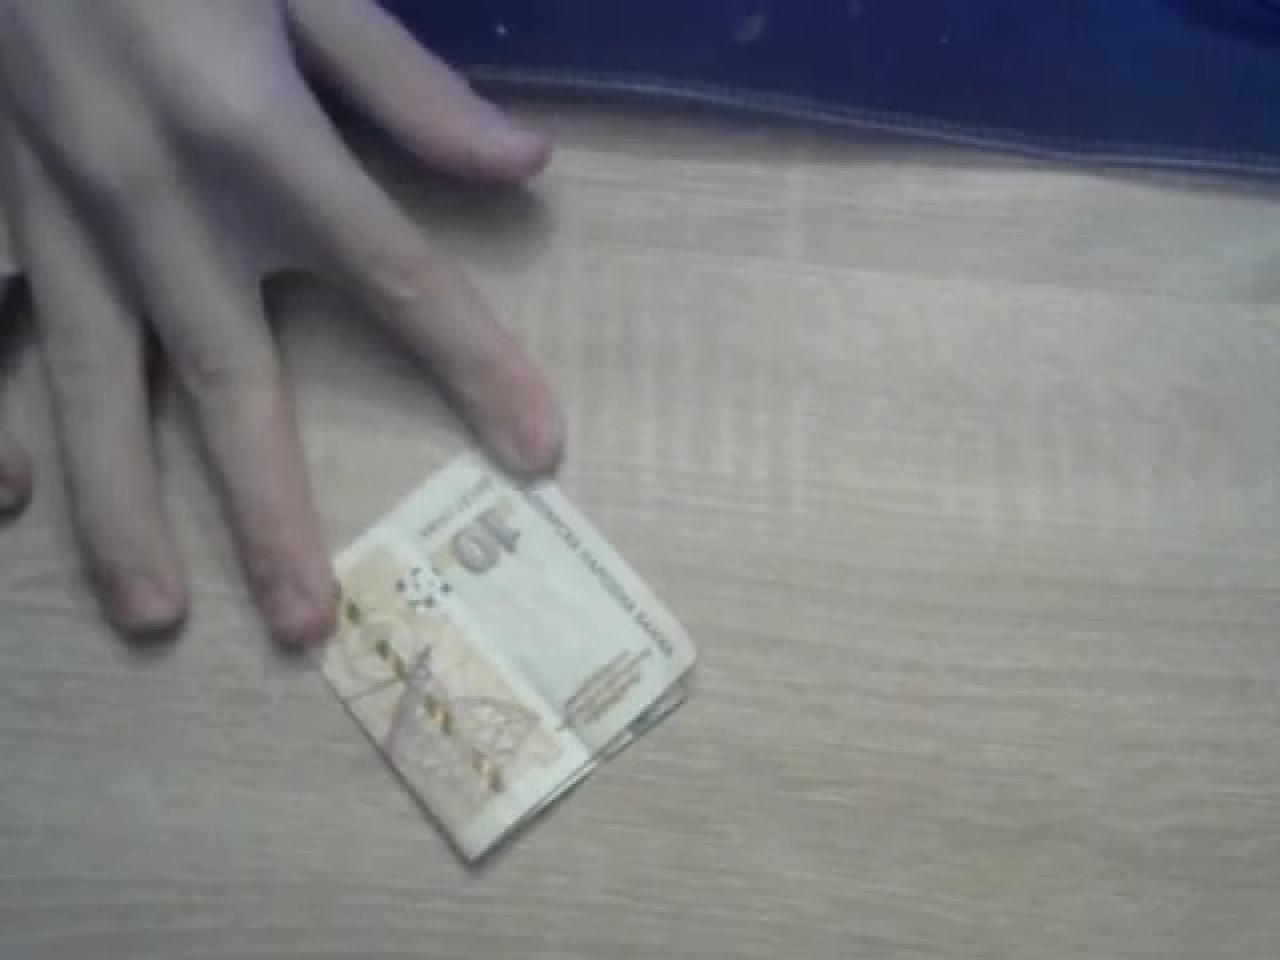10leva: (314, 442, 698, 866)
